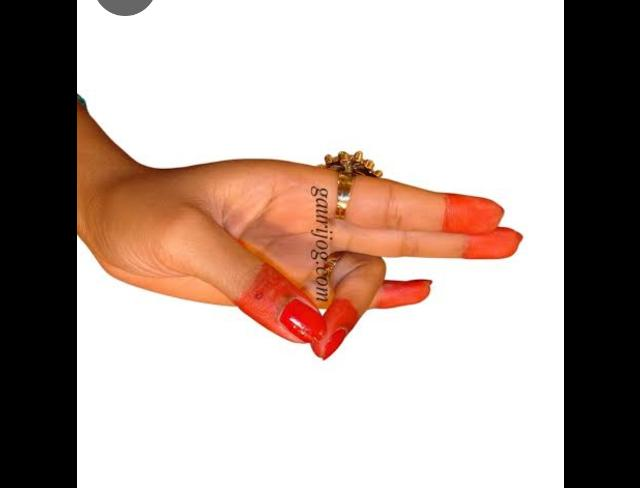mayur: (76, 94, 520, 355), (88, 144, 512, 388)
